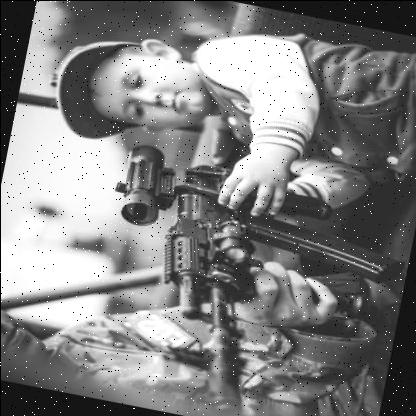rifle: (83, 121, 411, 416)
